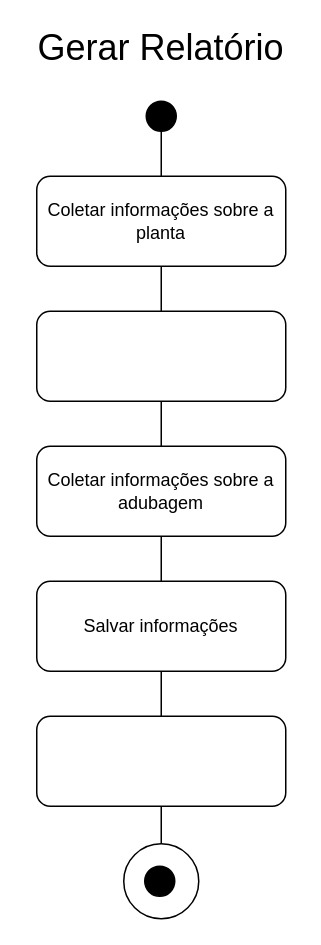
Image size: 321x945. Some labels were removed from this diagram. Here are the shapes that lost their labels. From the top down, the centre of each, then its label:
At (160,355): "Coletar informações sobre a irrigação".
At (160,760): "Gerar documento excel".
